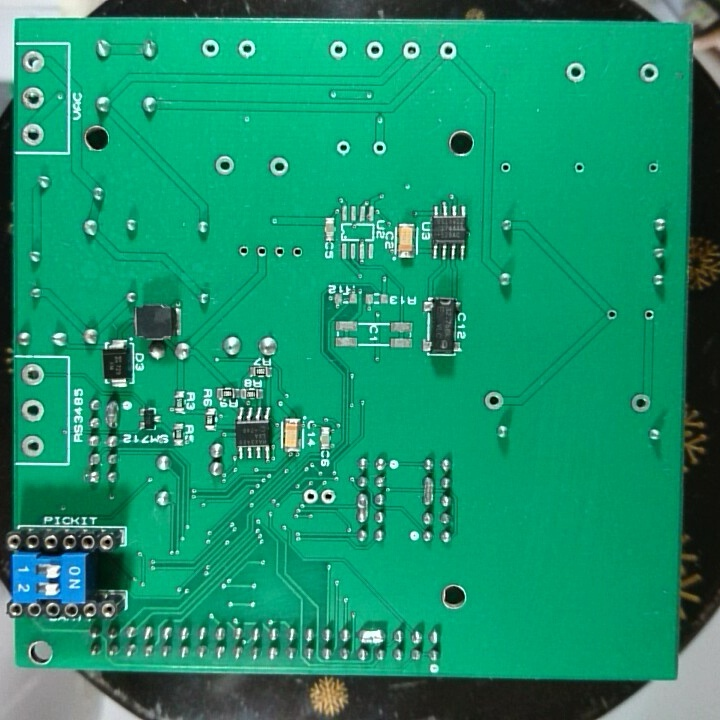F: (19, 48, 48, 77), (17, 82, 46, 110), (19, 120, 48, 148), (19, 396, 48, 424), (19, 362, 48, 389), (561, 60, 590, 86), (19, 433, 47, 459), (626, 389, 653, 415), (197, 36, 222, 62), (212, 152, 237, 178), (363, 38, 388, 62), (266, 155, 290, 179), (638, 59, 660, 85), (235, 37, 259, 60), (327, 38, 350, 61), (482, 389, 505, 412), (436, 40, 461, 61), (400, 40, 423, 60), (319, 485, 337, 508), (271, 240, 288, 263), (252, 241, 271, 261), (288, 241, 305, 263), (334, 138, 353, 157), (301, 487, 319, 506), (371, 138, 388, 158), (645, 158, 662, 178), (571, 158, 588, 176), (604, 306, 621, 324), (235, 243, 251, 259), (498, 159, 513, 176), (641, 306, 656, 323)
P: (355, 623, 388, 646), (102, 397, 122, 434), (354, 490, 371, 526), (419, 473, 436, 509)
